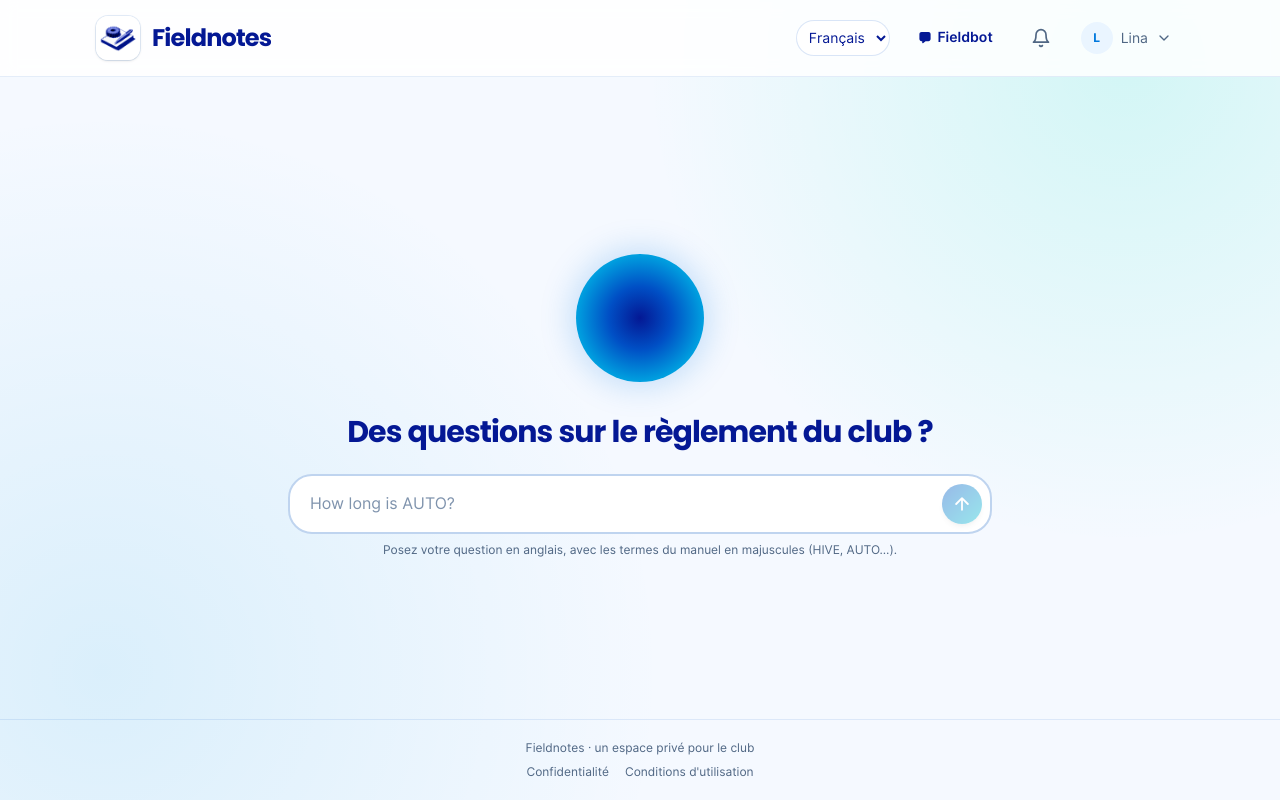
Test: shows the generated answer above its citations
Step 1. Type "Les robots peuvent-ils se toucher ?" into the text box named "Votre question sur le règlement" → (622, 504), box [310,484,934,524]
Then press Enter
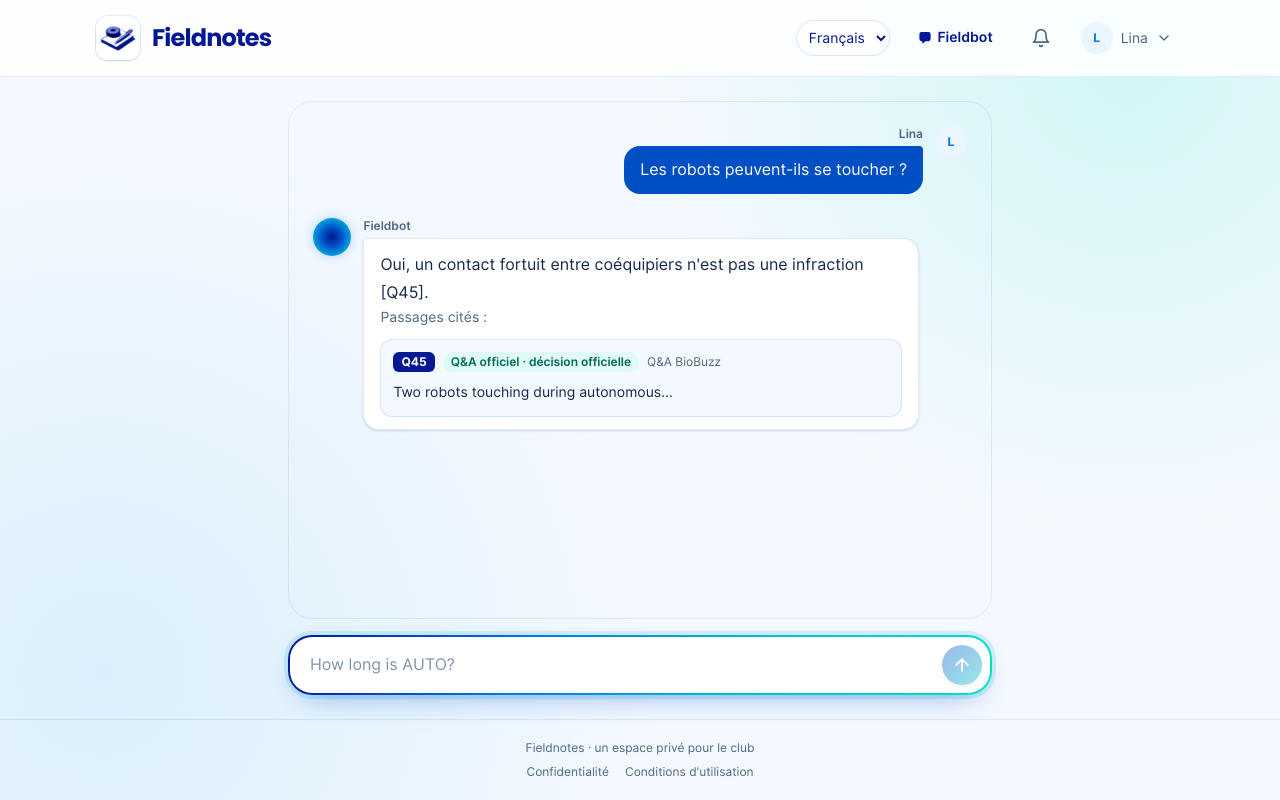
Expected: the text "Oui, un contact fortuit entre coéquipiers n'est pas une infraction [Q45]." is shown, [380,251,902,307]
Expected: the text "Passages cités :" is shown, [380,309,487,325]
Expected: the list named "Passages cités" is shown, [380,339,902,417]
